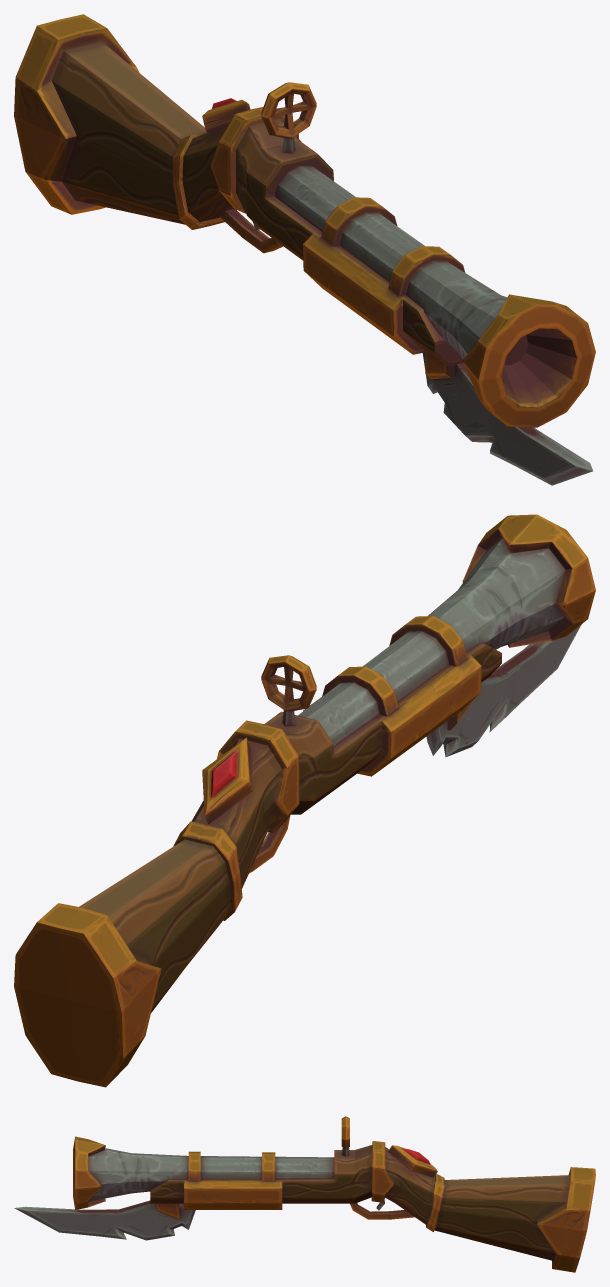
The model's file is Gun_Rosman.fbx.
The picture shows the model from 3 angles, top to bottom: view 1: azimuth 30°, elevation 25°; view 2: azimuth 150°, elevation 25°; view 3: azimuth 270°, elevation 25°; orthographic projection. The views are drawn at different scales.
Parts seen in each view (by area): view 1: Gun_Rosman; view 2: Gun_Rosman; view 3: Gun_Rosman.
Boxes of the visible parts, left/top/right/bottom form: Gun_Rosman: left=14, top=14, right=595, bottom=485; Gun_Rosman: left=14, top=514, right=595, bottom=1087; Gun_Rosman: left=14, top=1116, right=595, bottom=1272.
Bounding box in the file's own units: 70.46 × 156 × 555.
Materials: 1 (1 with a texture image).
